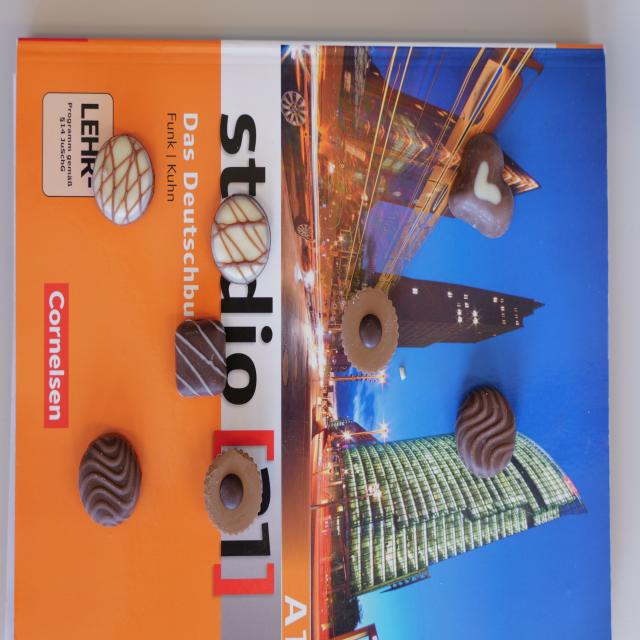Creme_brulee: (92, 133, 156, 225), (211, 194, 270, 284)
Noblesse: (339, 286, 400, 372), (205, 450, 262, 536)
Noir_authentique: (78, 431, 143, 527), (454, 384, 515, 480)
Passion_au_lait: (448, 134, 513, 239)
Stracciatella: (175, 318, 227, 398)
